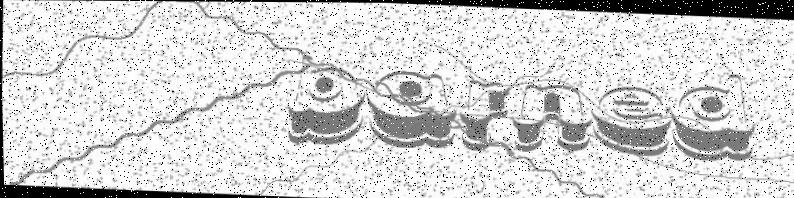a: (361, 67, 456, 151)
b: (284, 60, 365, 147)
d: (669, 71, 762, 160)
e: (589, 81, 675, 156)
n: (508, 75, 594, 157)
r: (455, 74, 513, 153)
